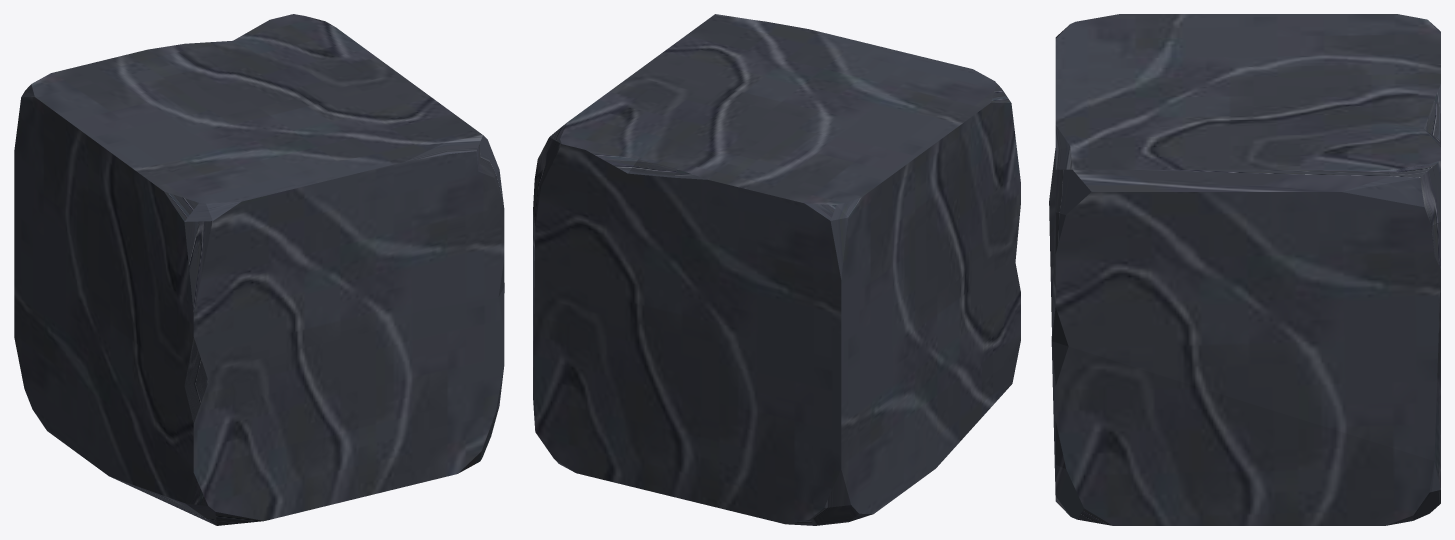
The model's file is GreyTpWall.fbx.
3 views of the same model, side by side, from view 1: azimuth 30°, elevation 25°; view 2: azimuth 150°, elevation 25°; view 3: azimuth 270°, elevation 25° (orthographic). The views are drawn at different scales.
Parts seen in each view (by area): view 1: Cube.011; view 2: Cube.011; view 3: Cube.011.
Part boxes in pixels (box(x1,y1,x2,y2)): Cube.011: box(14, 14, 504, 525); Cube.011: box(533, 14, 1020, 525); Cube.011: box(1049, 14, 1440, 525).
Bounding box in the file's own units: 205 × 202 × 203.
